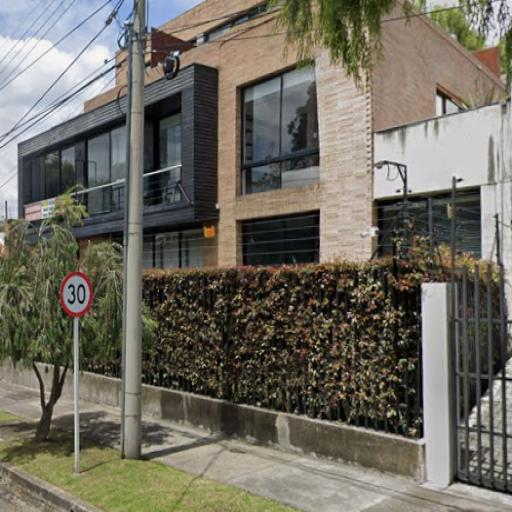Casa: (16, 0, 506, 484)
postes: (117, 0, 155, 462)
